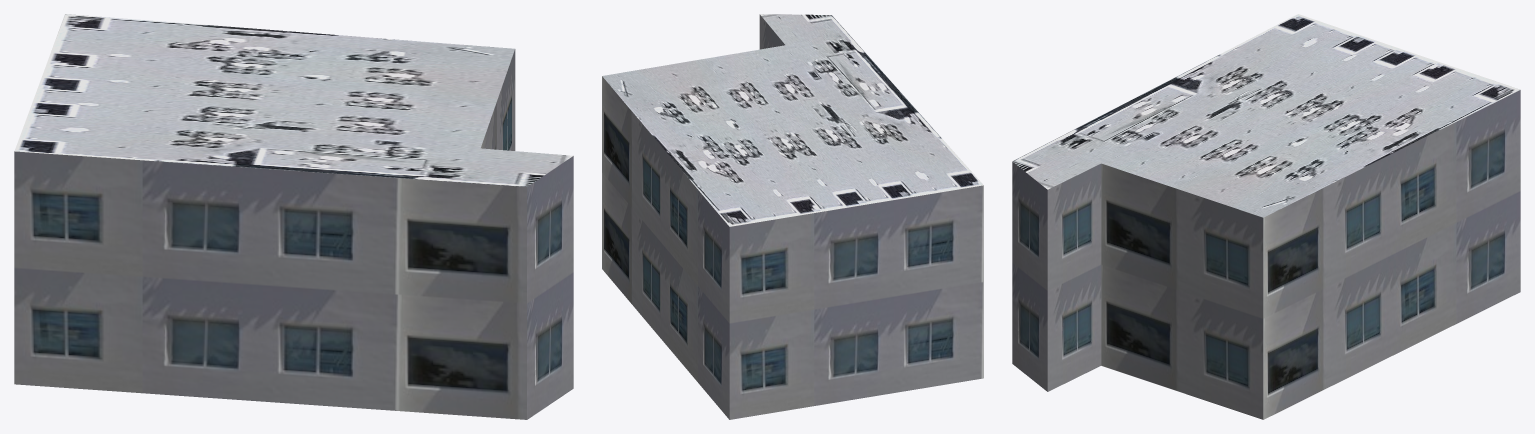
The model's file is ResTex__2157.fbx.
The picture shows the model from 3 angles, left to right: view 1: azimuth 30°, elevation 25°; view 2: azimuth 150°, elevation 25°; view 3: azimuth 270°, elevation 25°; orthographic projection. The views are drawn at different scales.
Parts seen in each view (by area): view 1: CityEngineMaterial_10_m, CityEngineMaterial_4_m; view 2: CityEngineMaterial_10_m, CityEngineMaterial_4_m; view 3: CityEngineMaterial_10_m, CityEngineMaterial_4_m.
Boxes of the visible parts, x1,y1,x2,y2 form: CityEngineMaterial_10_m: (14,49,573,419); CityEngineMaterial_4_m: (14,14,572,186); CityEngineMaterial_10_m: (602,14,983,419); CityEngineMaterial_4_m: (602,14,983,226); CityEngineMaterial_10_m: (1012,90,1520,419); CityEngineMaterial_4_m: (1012,14,1520,217).
Size of the model in its own units: 12.96 by 6 by 13.67.
2 materials, 2 textured.
